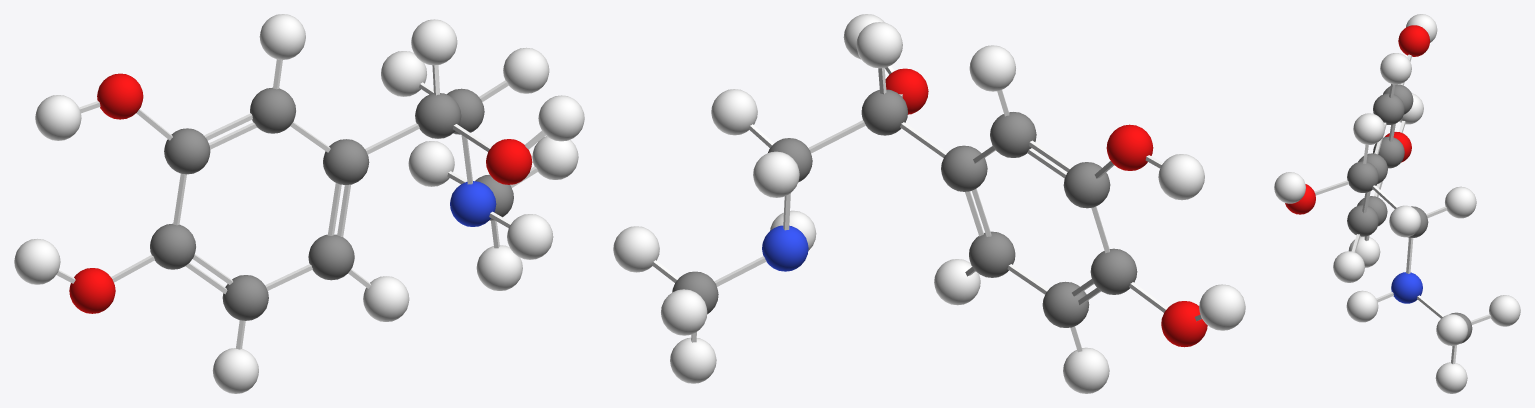
The model's file is adrenaline_avo_scale_ios.glb.
3 renders of one model, left to right at view 1: azimuth 30°, elevation 25°; view 2: azimuth 150°, elevation 25°; view 3: azimuth 270°, elevation 25°, orthographic. The views are drawn at different scales.
Parts seen in each view (by area): view 1: nodes[21]; view 2: nodes[21]; view 3: nodes[21].
Boxes of the visible parts, left/top/right/bottom form: nodes[21]: left=14, top=14, right=584, bottom=393; nodes[21]: left=613, top=14, right=1245, bottom=393; nodes[21]: left=1274, top=14, right=1520, bottom=393.
Bounding box in the file's own units: 0.4601 × 0.2722 × 0.2417.
